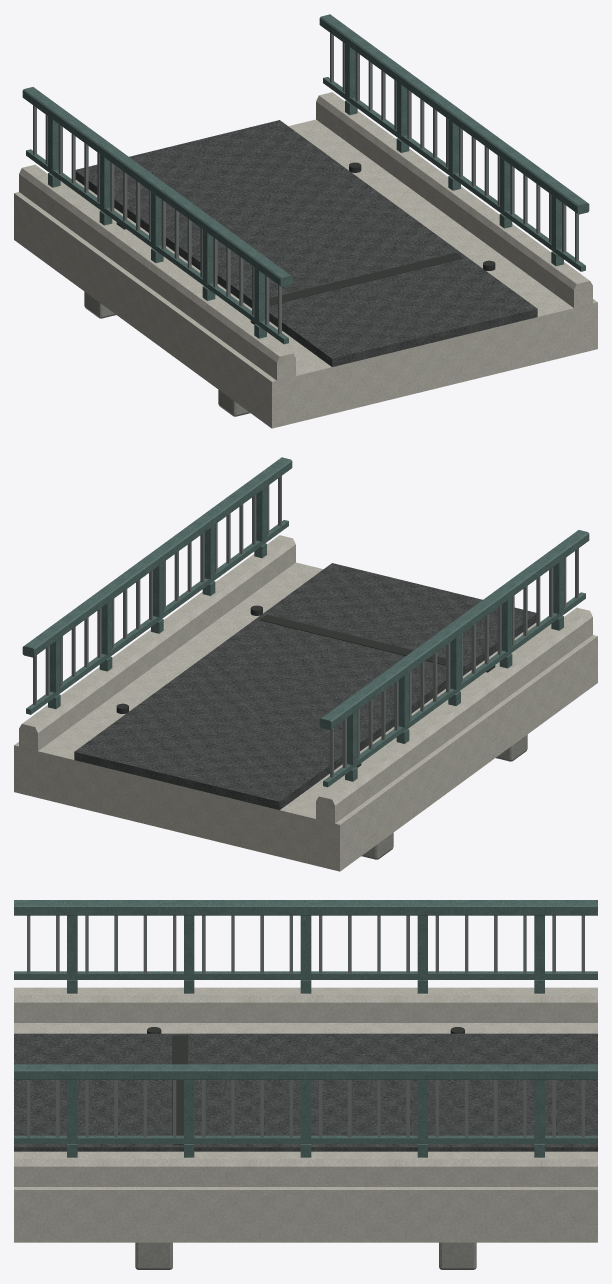
Rendered from BRG_LOCAL_DECK_1x1_STRAIGHT.glb.
The picture shows the model from 3 angles, top to bottom: view 1: azimuth 30°, elevation 25°; view 2: azimuth 150°, elevation 25°; view 3: azimuth 270°, elevation 25°; orthographic projection. The views are drawn at different scales.
Visible parts, largest first — view 1: BRG_LOCAL_DECK_1x1_STRAIGHT_Visual; view 2: BRG_LOCAL_DECK_1x1_STRAIGHT_Visual; view 3: BRG_LOCAL_DECK_1x1_STRAIGHT_Visual.
Boxes of the visible parts, x1,y1,x2,y2 form: BRG_LOCAL_DECK_1x1_STRAIGHT_Visual: (14,14,597,428); BRG_LOCAL_DECK_1x1_STRAIGHT_Visual: (14,457,597,871); BRG_LOCAL_DECK_1x1_STRAIGHT_Visual: (14,900,597,1269).
Size of what is drawn, in the model's own units: 1.46 by 0.775 by 2.
Materials: 6 (4 with a texture image).
